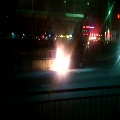fire: (51, 47, 69, 75)
